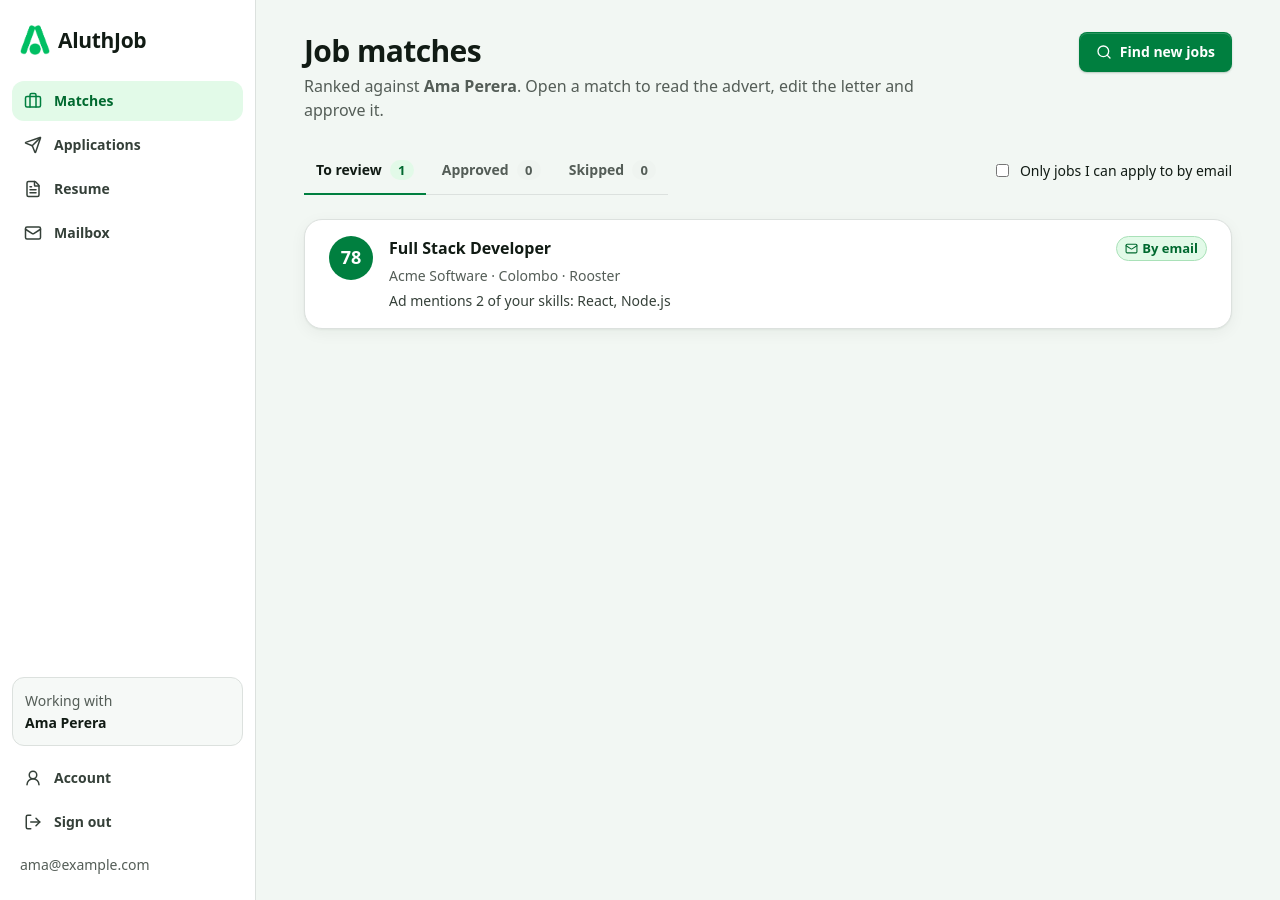
Test: matches list › explains an empty tab instead of showing nothing
Check: the link "Full Stack Developer" is shown, box [305,220,1231,328]
Click the tab "Skipped 0" at (612, 171), box [557,147,668,195]
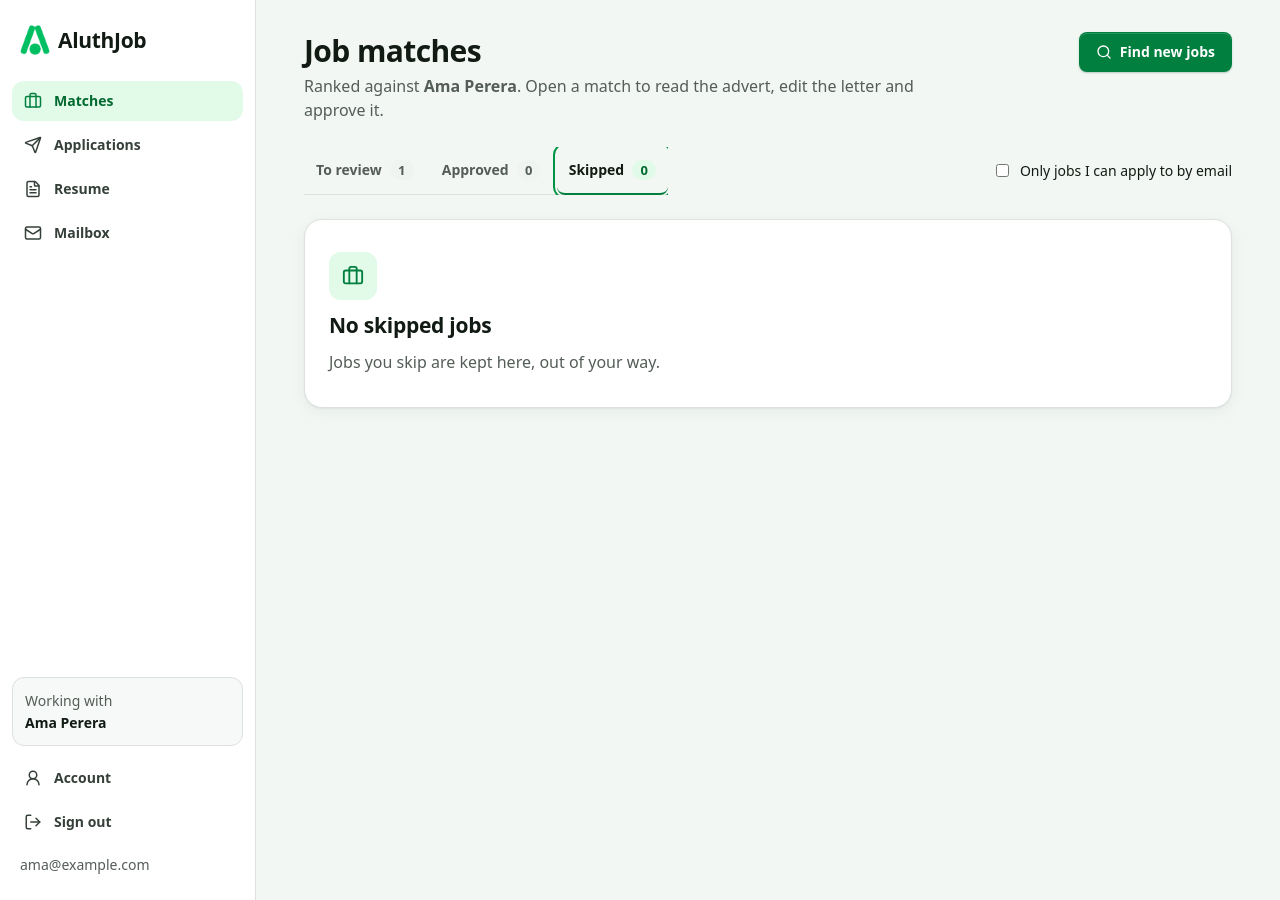
Check: the heading "No skipped jobs" is shown, box [329,312,492,338]
